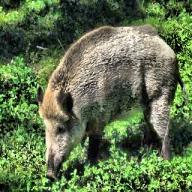boar: (36, 22, 187, 182)
